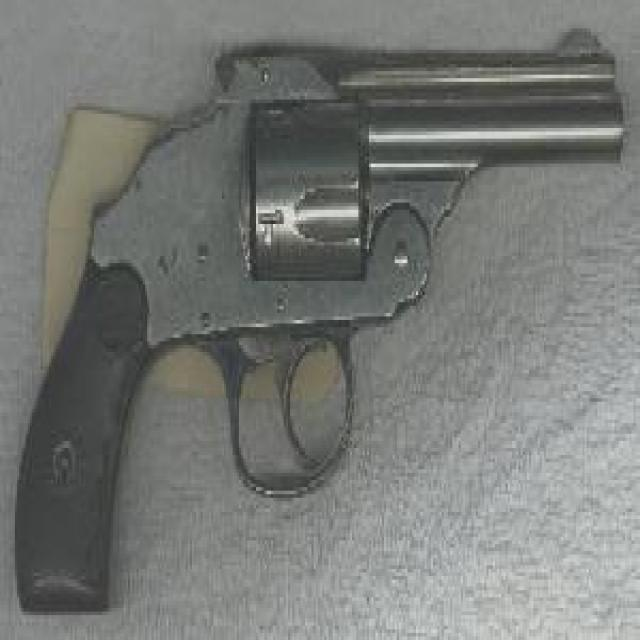gun: (11, 25, 617, 611)
